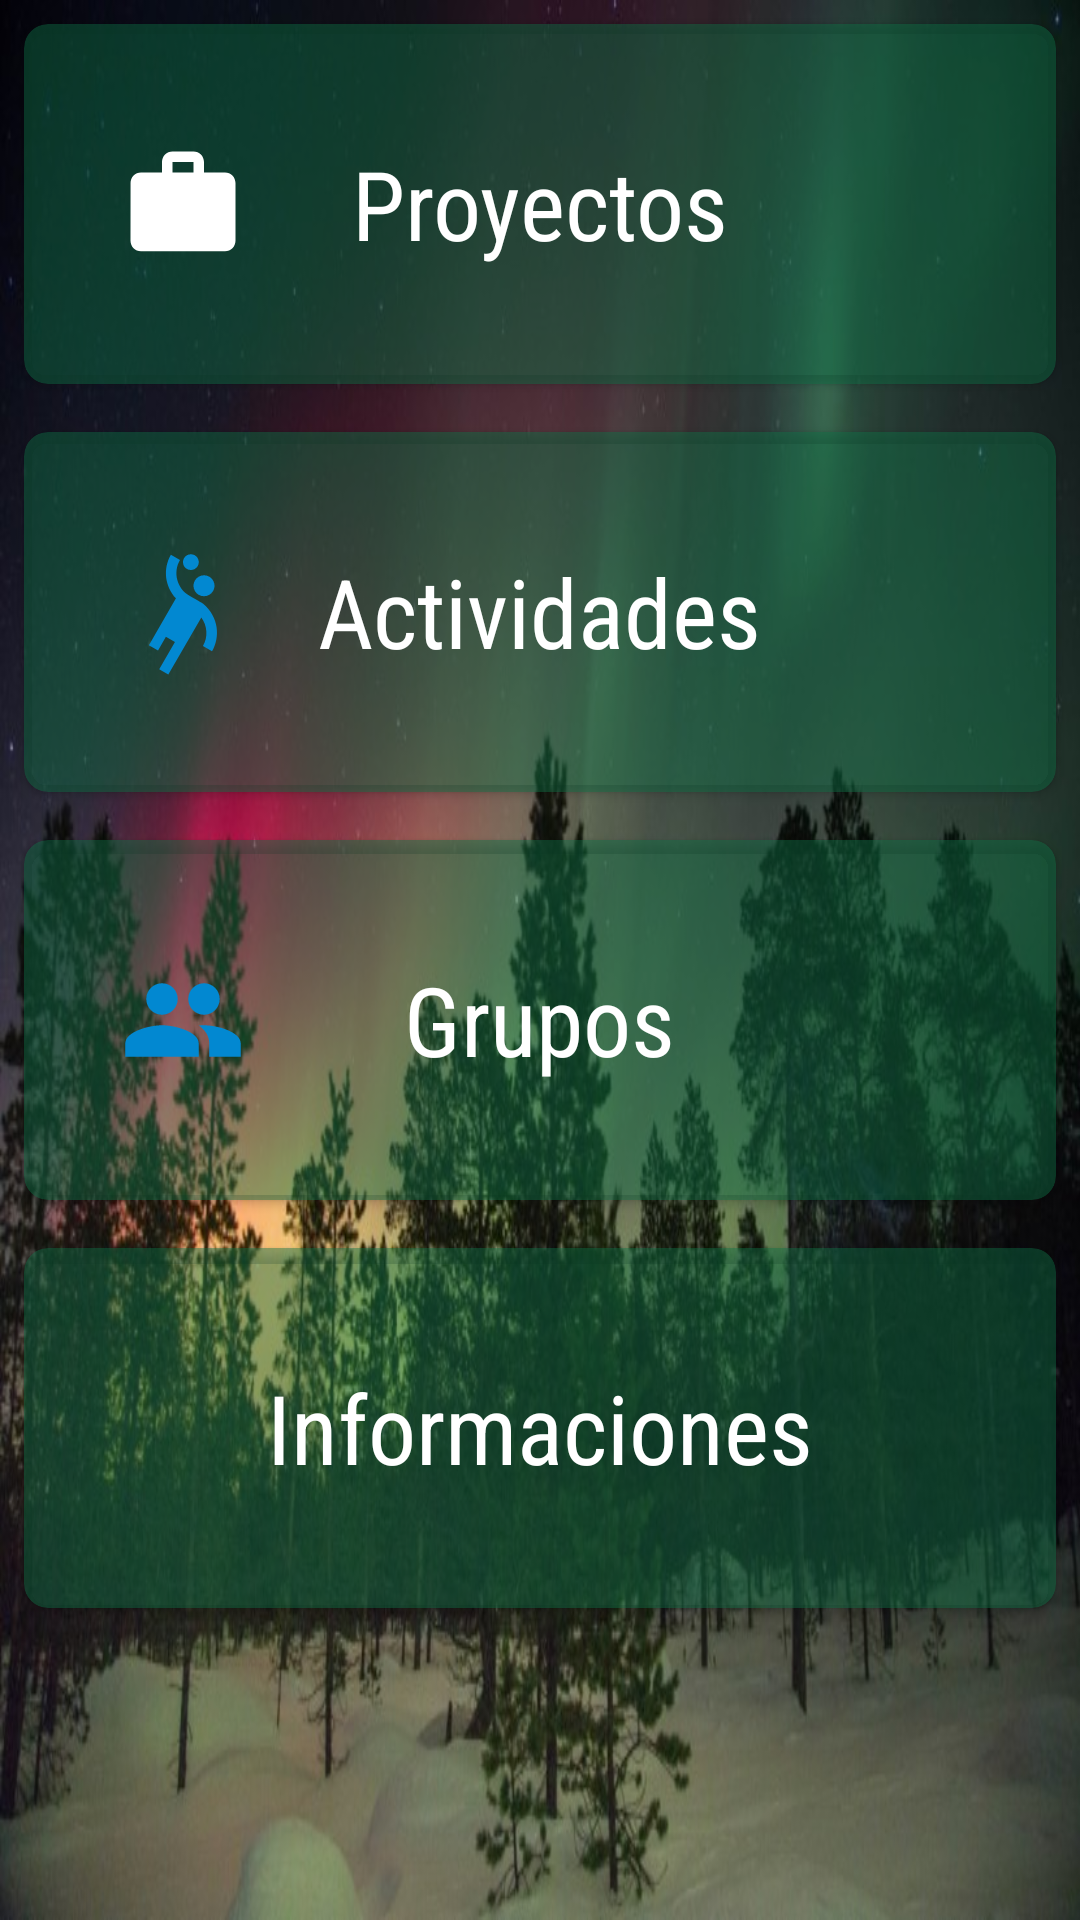

Screen size 1080×1920. Icon name, then its box in pixels as [x1, y1, x2, y2]:
sports handball: [149, 554, 217, 675]
work: [130, 151, 236, 252]
